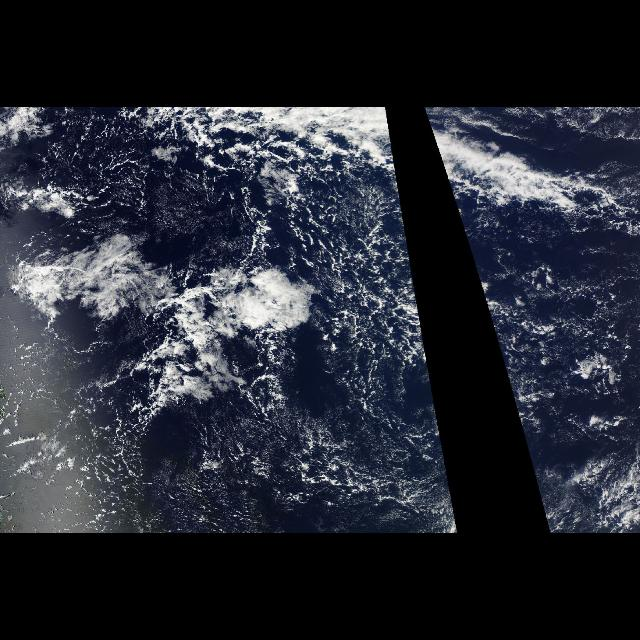Fish: (1, 110, 406, 394), (423, 110, 631, 240)
Gravel: (4, 175, 458, 533), (444, 175, 640, 533), (62, 118, 158, 236)
